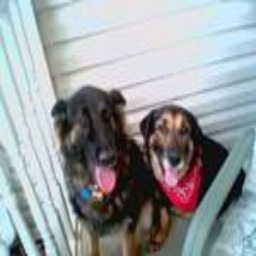dog: (43, 85, 235, 250)
